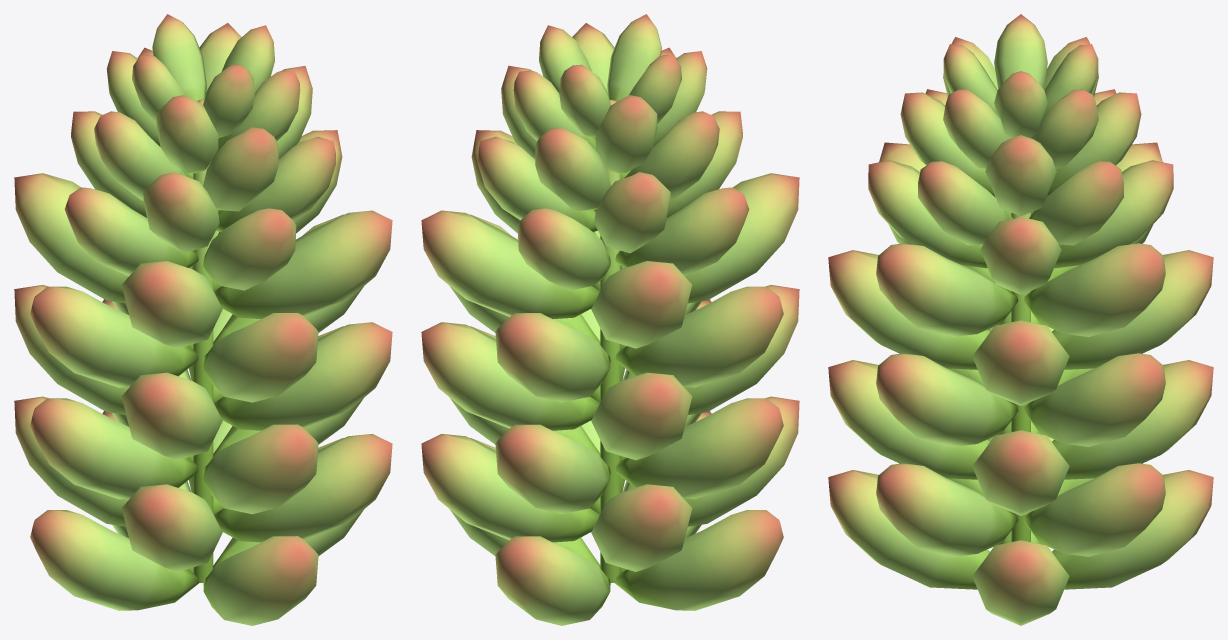
Rendered from Succulents_02_L.fbx.
3 views of the same model, side by side, from view 1: azimuth 30°, elevation 25°; view 2: azimuth 150°, elevation 25°; view 3: azimuth 270°, elevation 25° (orthographic).
Parts seen in each view (by area): view 1: Object003; view 2: Object003; view 3: Object003.
Part boxes in pixels (x1,y1,x2,y2): Object003: (14,14,392,625); Object003: (421,14,799,625); Object003: (828,14,1213,625).
Bounding box in the file's own units: 52.3 × 81.67 × 52.3.
